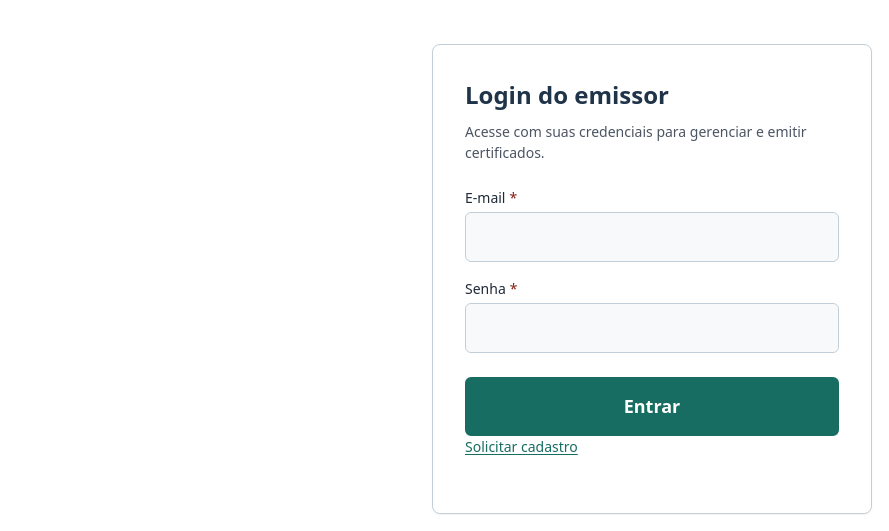
Scenario: LoginPage (CT1/CT3) › redireciona para state.from após login bem-sucedido quando perfil tem permissão
Type "emissor@timbro.test" into the field labelled "E-mail*" at (652, 237), box x1=465 y1=212 x2=839 y2=262
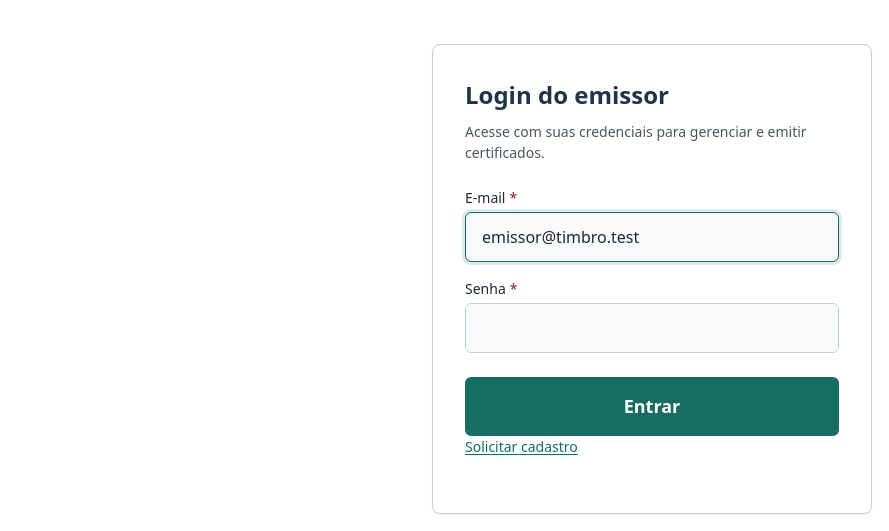
Type "Senha@123" into the password field labelled "Senha*" at (652, 328), box x1=465 y1=303 x2=839 y2=353
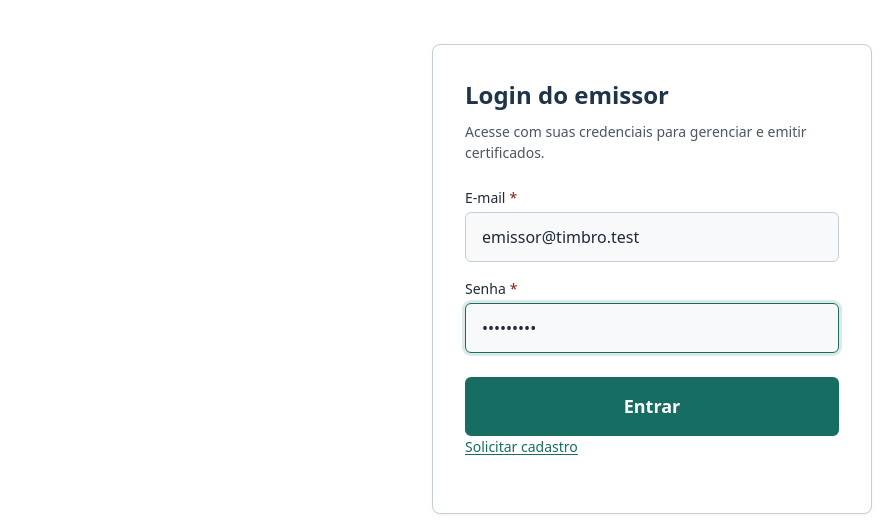
Click the button "Entrar" at (652, 406), box x1=465 y1=377 x2=839 y2=436
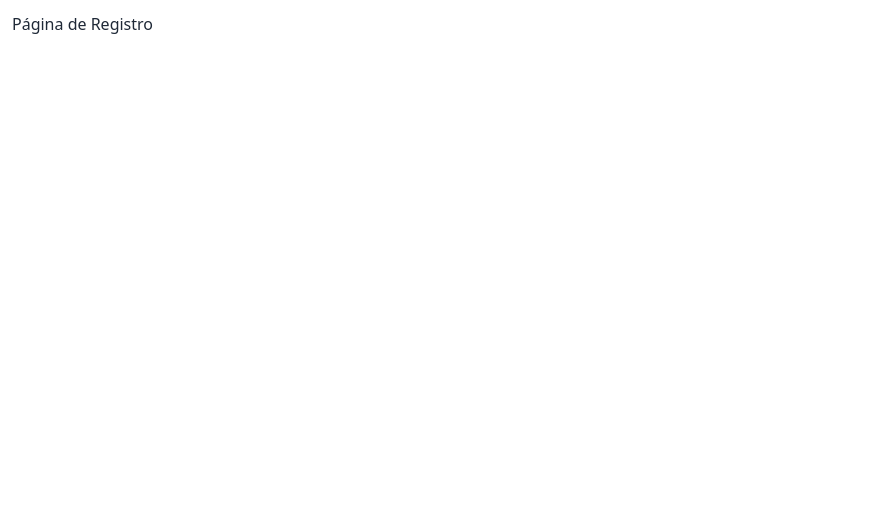
Now the text "Página de Registro" is shown, box x1=12 y1=13 x2=153 y2=35
